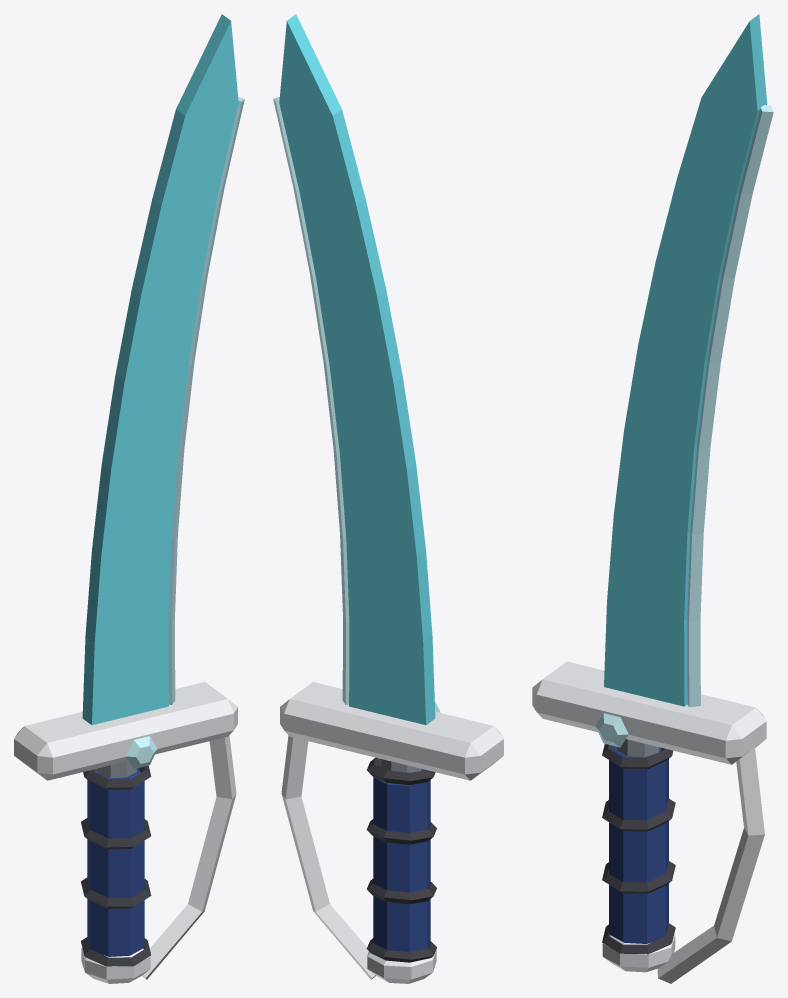
The model's file is DiamondCutlass.fbx.
3 views of the same model, side by side, from view 1: azimuth 30°, elevation 25°; view 2: azimuth 150°, elevation 25°; view 3: azimuth 330°, elevation 25° (orthographic). The views are drawn at different scales.
Visible parts, largest first — view 1: DiamondCutlass; view 2: DiamondCutlass; view 3: DiamondCutlass.
Part boxes in pixels (x1,y1,x2,y2): DiamondCutlass: [14, 14, 244, 983]; DiamondCutlass: [273, 14, 503, 983]; DiamondCutlass: [532, 14, 773, 983].
Bounding box in the file's own units: 1.09 × 4.49 × 0.4065.
1 material, 1 textured.
